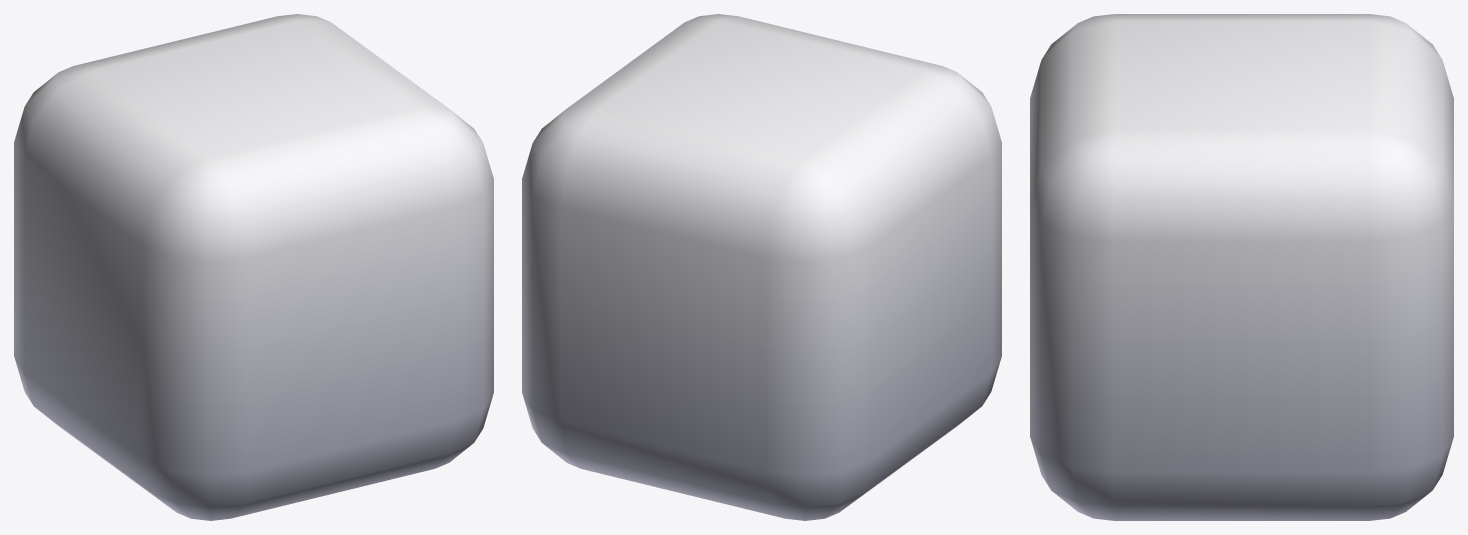
Rendered from Cloud.fbx.
3 renders of one model, left to right at view 1: azimuth 30°, elevation 25°; view 2: azimuth 150°, elevation 25°; view 3: azimuth 270°, elevation 25°, orthographic. The views are drawn at different scales.
Visible parts, largest first — view 1: cube; view 2: cube; view 3: cube.
Boxes of the visible parts, box(x1,y1,x2,y2) form: cube: box(14, 14, 493, 520); cube: box(522, 14, 1001, 520); cube: box(1030, 14, 1453, 520).
Size of the model in its own units: 100 by 100 by 100.
